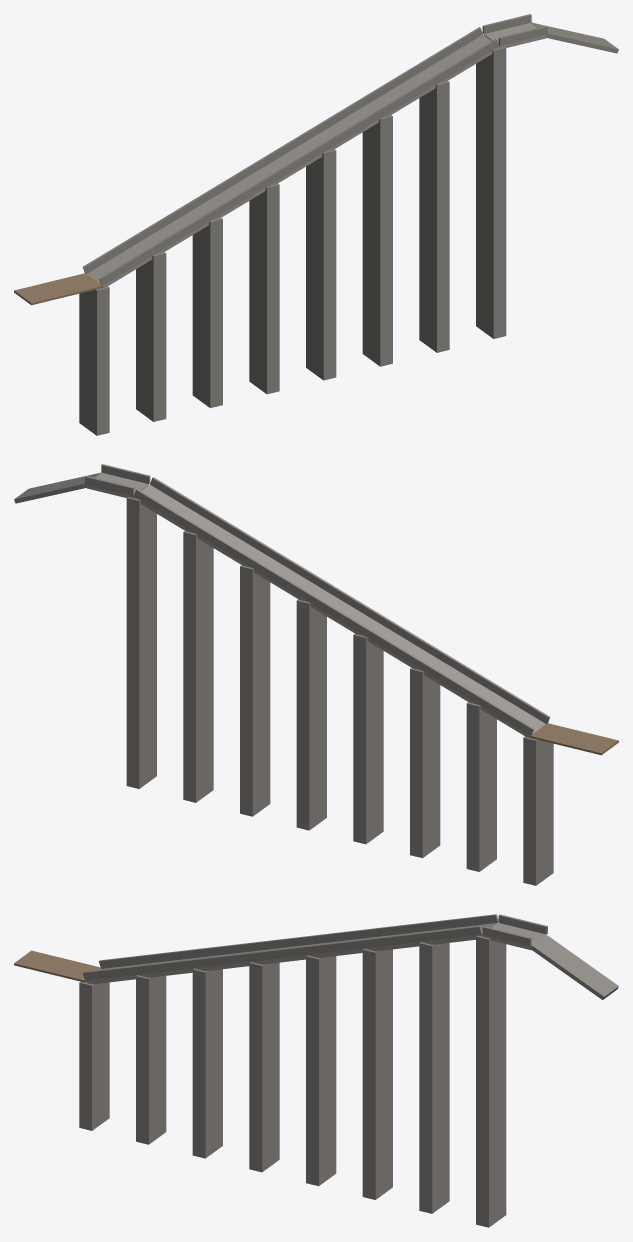
Rendered from ash_landing_hot_spring_col.glb.
3 renders of one model, top to bottom at view 1: azimuth 30°, elevation 25°; view 2: azimuth 150°, elevation 25°; view 3: azimuth 330°, elevation 25°, orthographic.
Parts seen in each view (by area): view 1: geometry_0; view 2: geometry_0; view 3: geometry_0.
Part boxes in pixels (left/top/right/bottom): geometry_0: left=14, top=14, right=618, bottom=435; geometry_0: left=14, top=464, right=618, bottom=885; geometry_0: left=14, top=914, right=618, bottom=1227.
Size of the model in its own units: 73.84 by 35.83 by 3.8.
